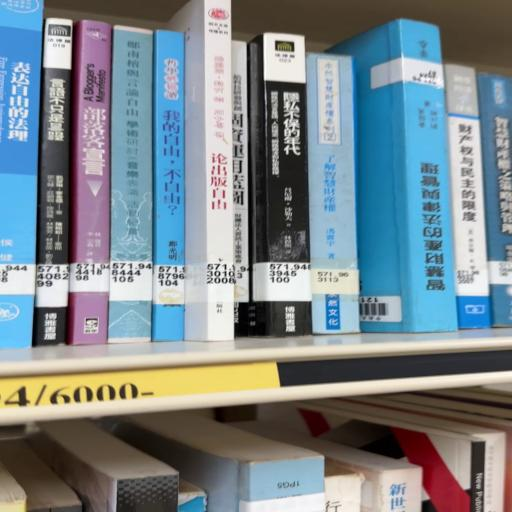reverse: (327, 19, 457, 333)
